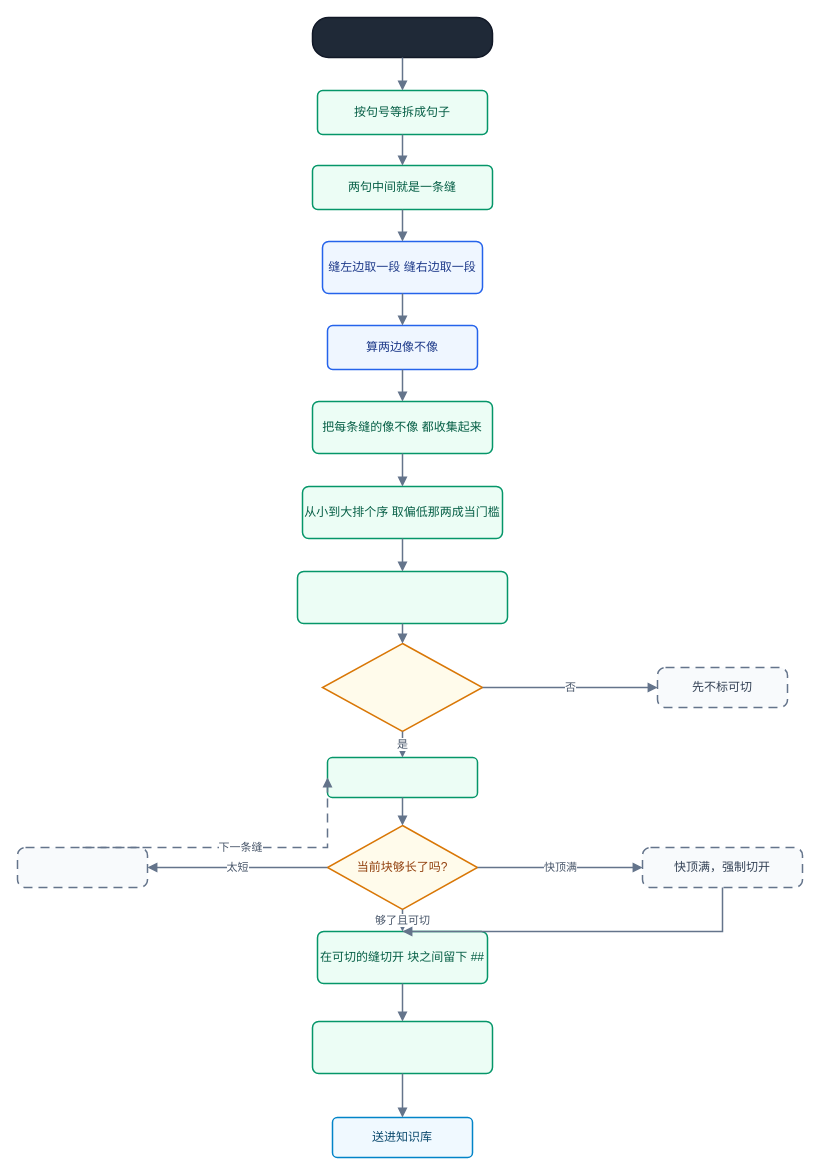
This 821x1176 diagram has some shape labels left out. The centre of each missing label's shape, as x and y in pixels:
再看附近几条缝 算出中间水平（中位数）: the point at 402,597
太短，先不切: the point at 82,867
太碎的拼回邻居 （挑更像的一边）: the point at 402,1047
标成「可以切」: the point at 402,777
比门槛还低 或比附近掉一大截?: the point at 402,687
源文件（Markdown）: the point at 402,37
